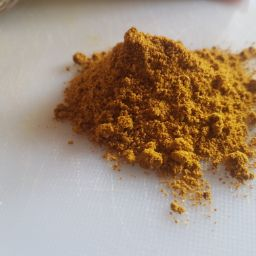Curry powder: (55, 19, 256, 221), (81, 58, 255, 200), (112, 37, 209, 157)
